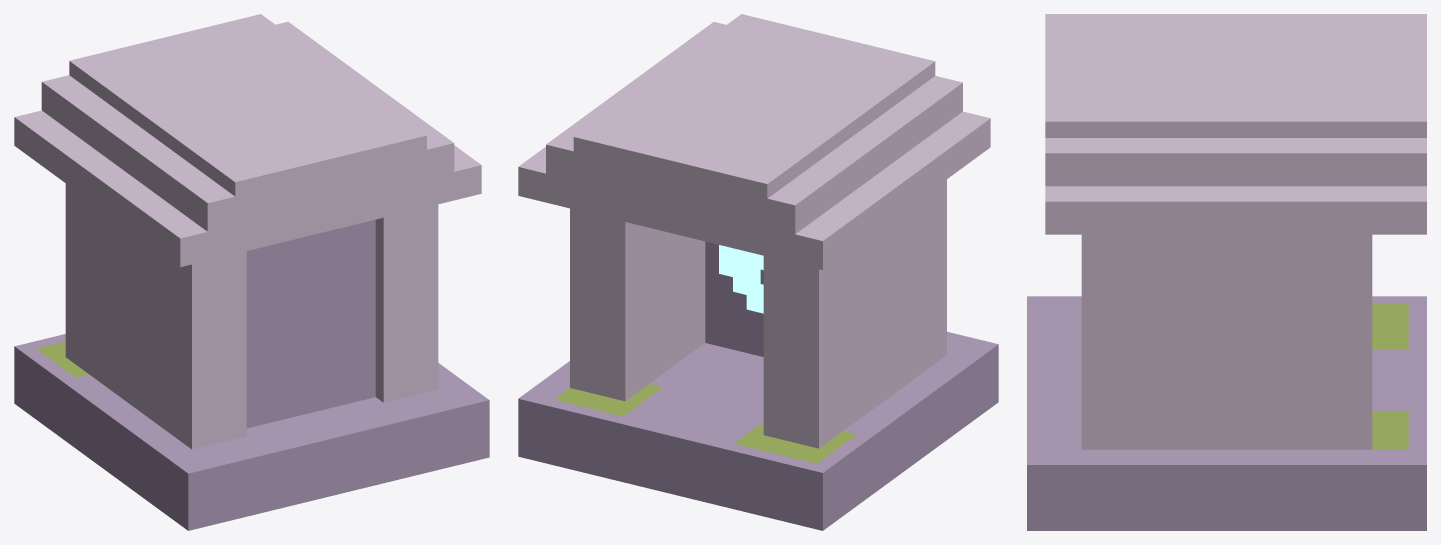
The model's file is spirit_shrine_stone.glb.
The picture shows the model from 3 angles, left to right: view 1: azimuth 30°, elevation 25°; view 2: azimuth 150°, elevation 25°; view 3: azimuth 270°, elevation 25°; orthographic projection. The views are drawn at different scales.
Bounding box in the file's own units: 0.9167 × 0.9583 × 0.9167.
